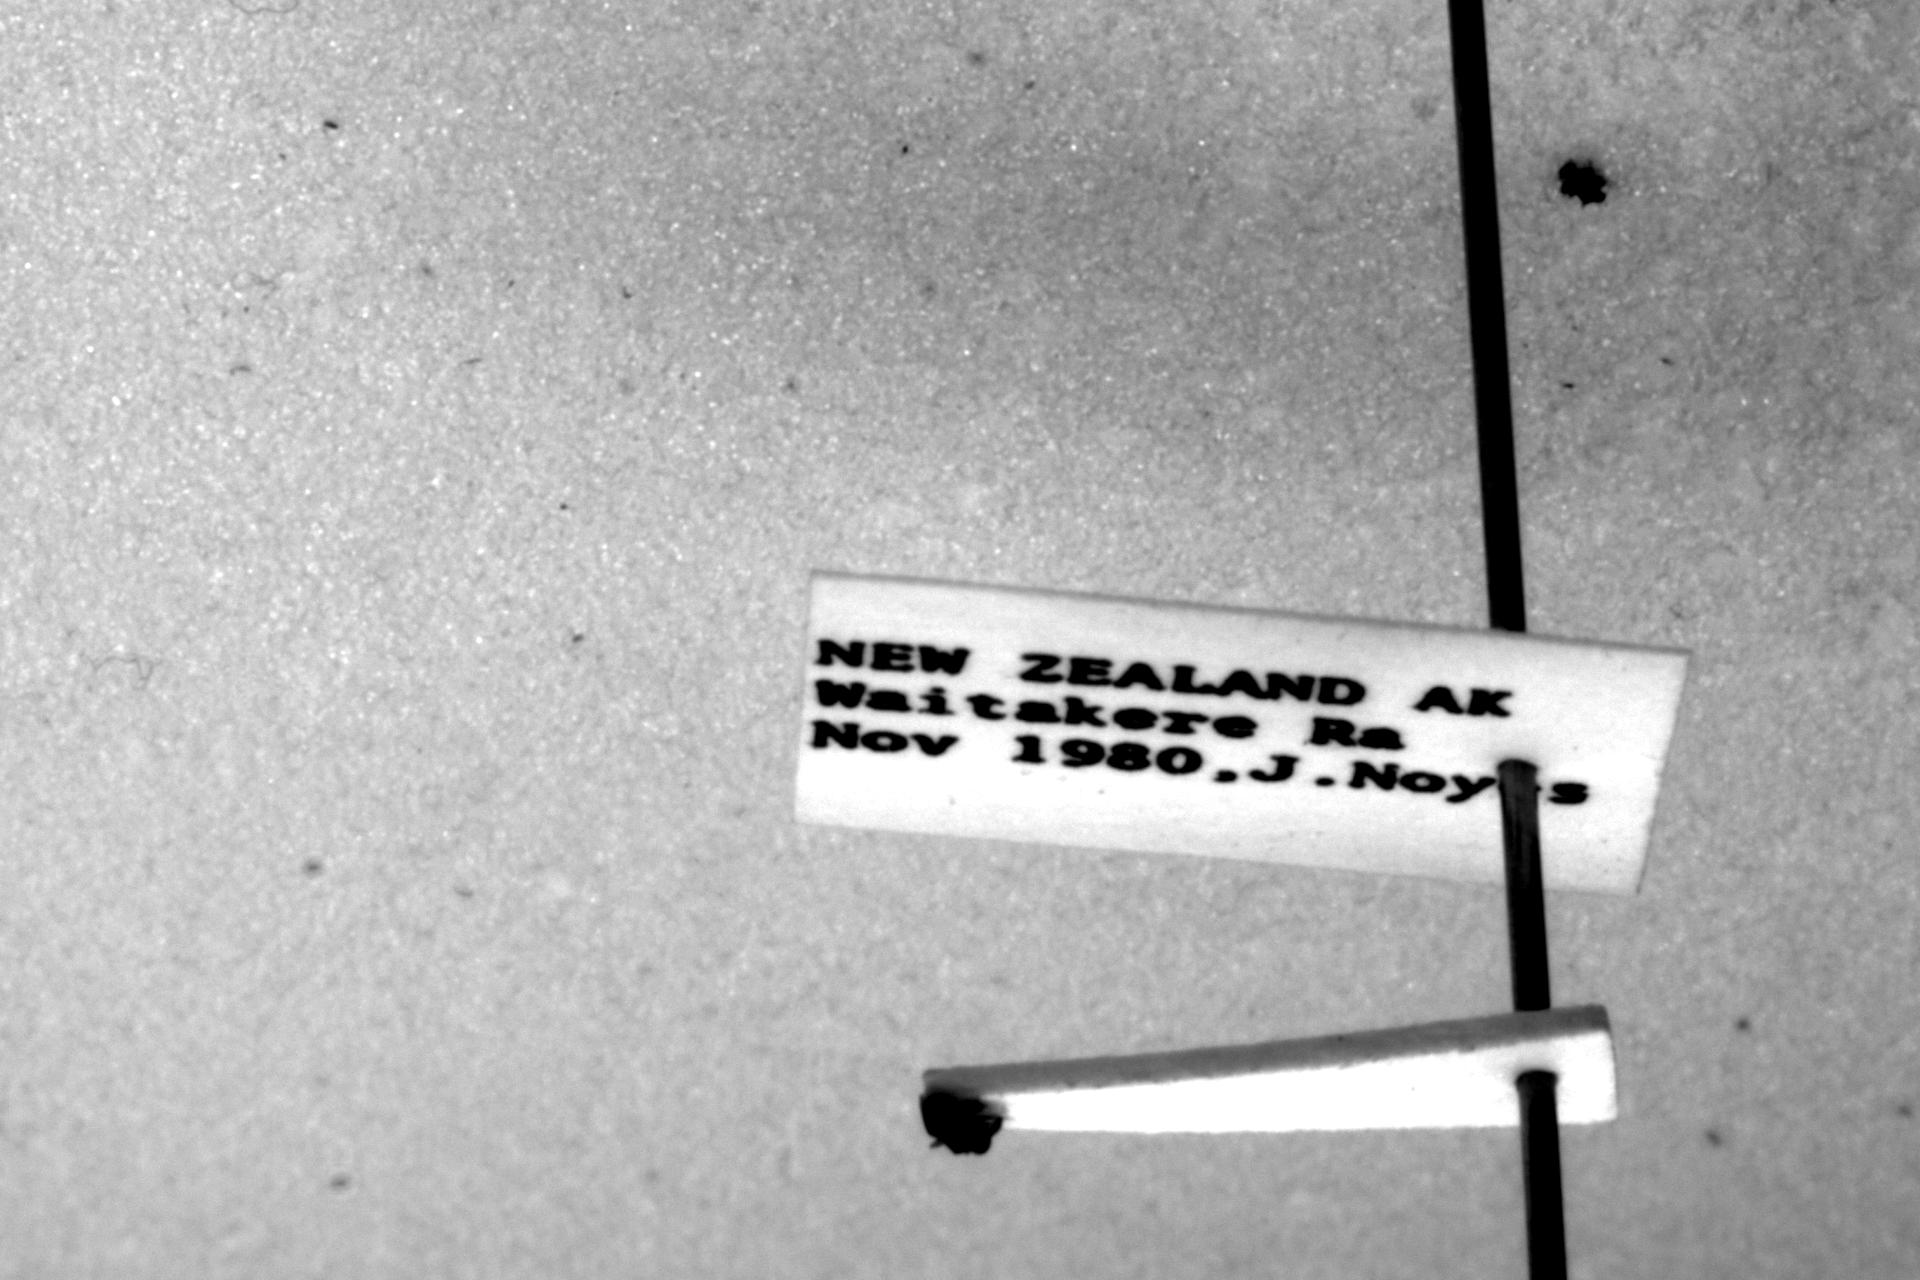typed_label: (794, 574, 1687, 893)
